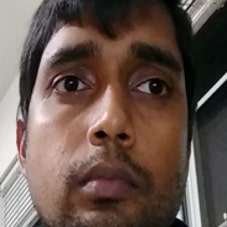awake: (37, 36, 190, 209)
